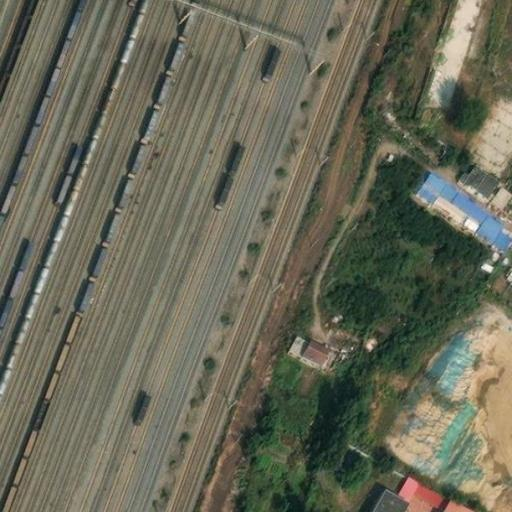building: (417, 166, 512, 246), (366, 468, 422, 512), (458, 153, 501, 193), (440, 491, 487, 512), (487, 173, 512, 205), (303, 332, 332, 356)
